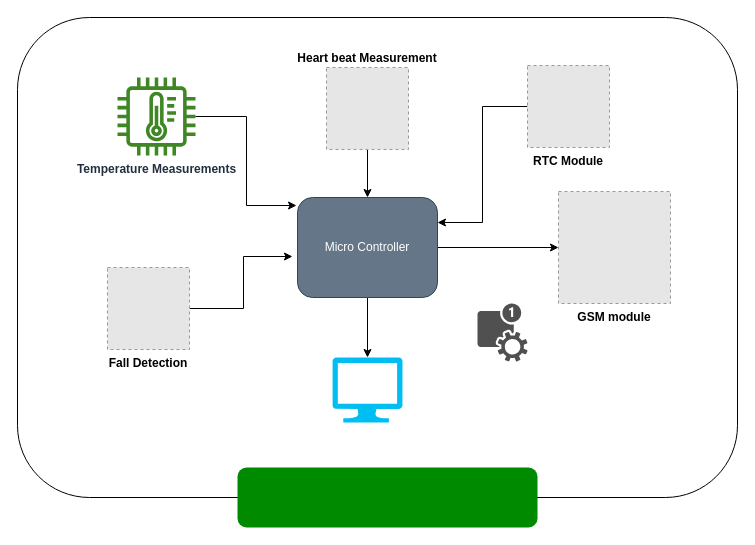
Image size: 755x545. Some labels were removed from this diagram. Grey dashed boxes stand in for pictures. Each missing label, with the centre of its shape:
"Display" goes at point (367, 389).
"HEALTH MONITORING SYSTEM" goes at point (387, 497).
"Notification System" goes at point (502, 332).
